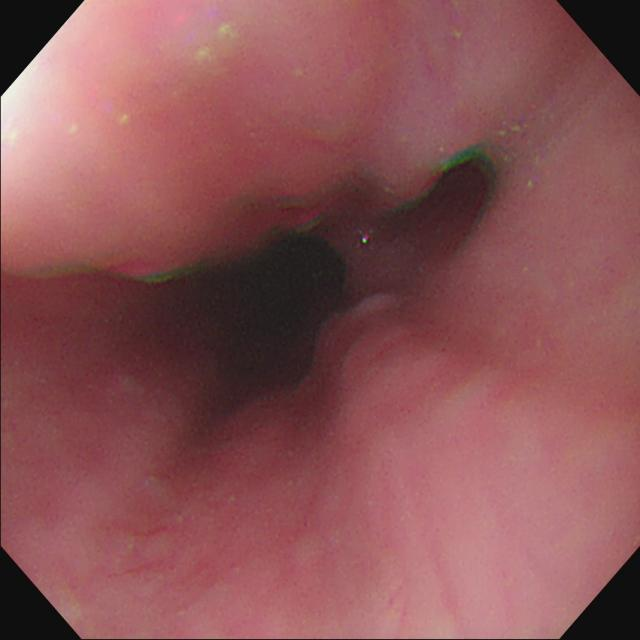E: (209, 239, 349, 410)
